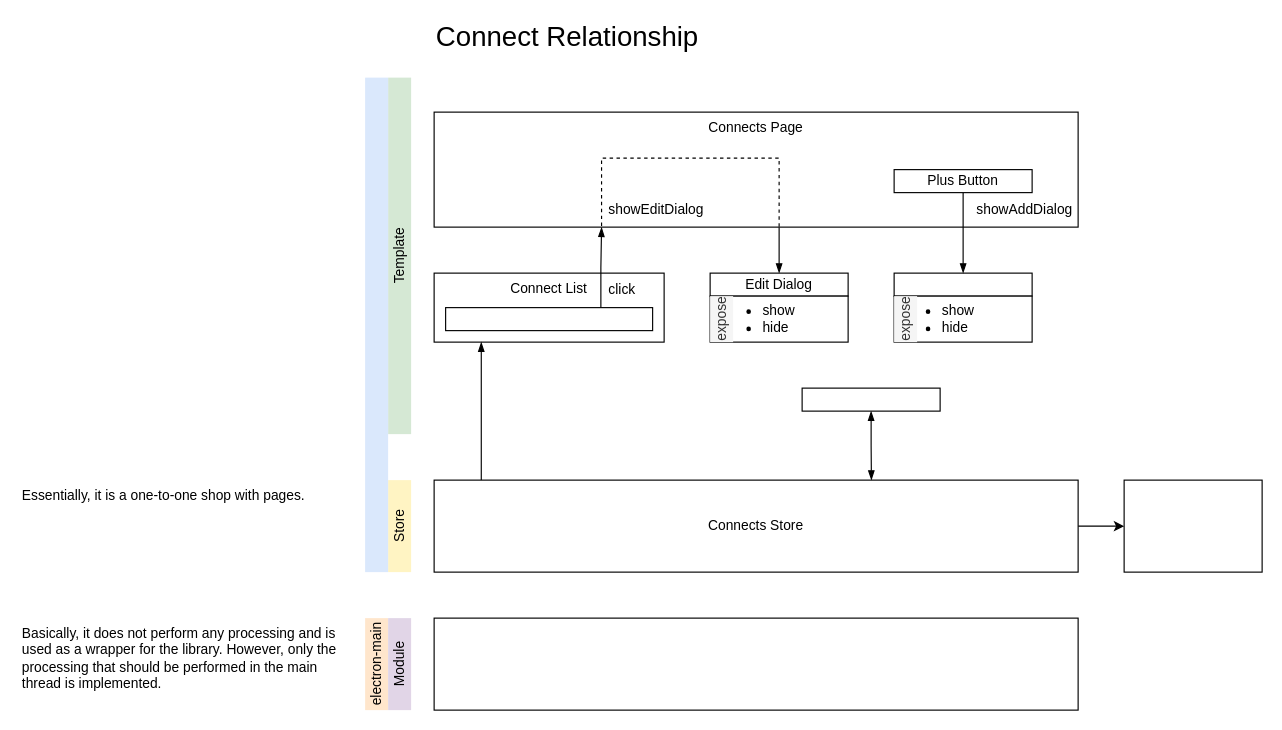
Image size: 1282x730. Some labels were removed from this diagram. Each missing label, with the centre of its shape:
"Add Dialog" goes at [962,284].
"Books Store" goes at [1192,525].
"Connection Setting Item" goes at [548,318].
"Connects Module" goes at [755,663].
"electron-renderer" goes at [376,324].
"Kindle Setting" goes at [870,399].
